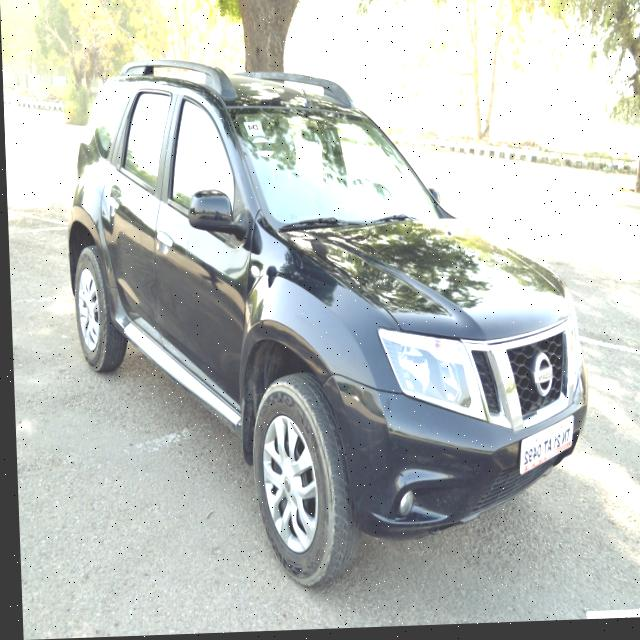plate: (515, 417, 573, 493)
